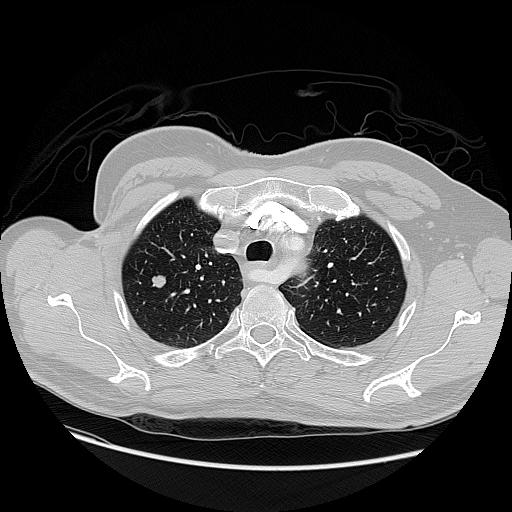nodule: (150, 273, 168, 291)
